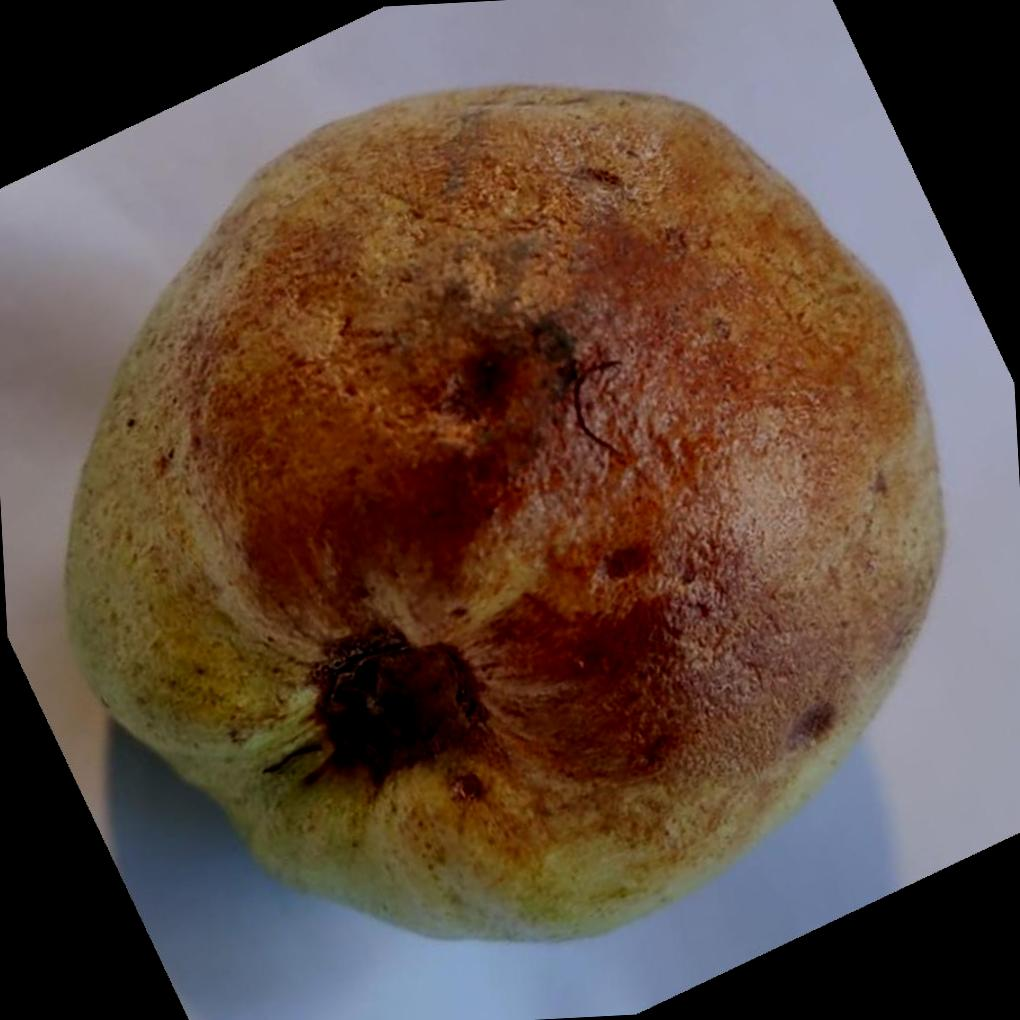FreshOrange: (58, 81, 941, 945)
